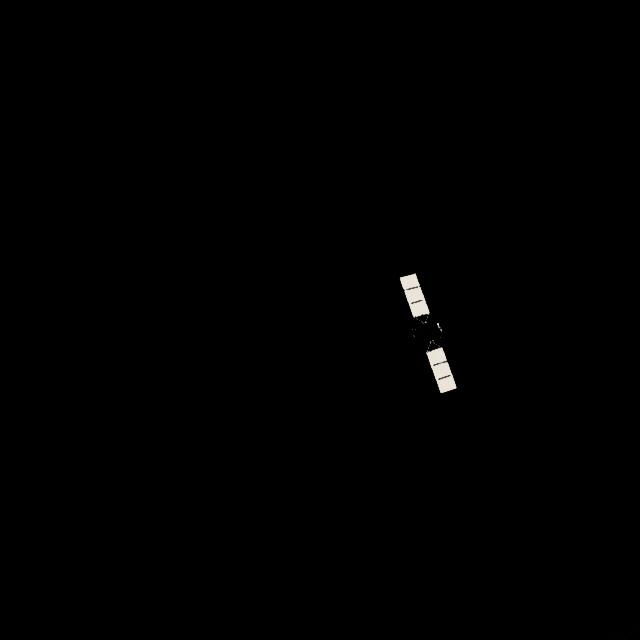satellite: (401, 274, 461, 395)
